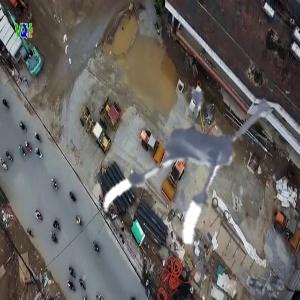drone: (97, 69, 295, 267)
